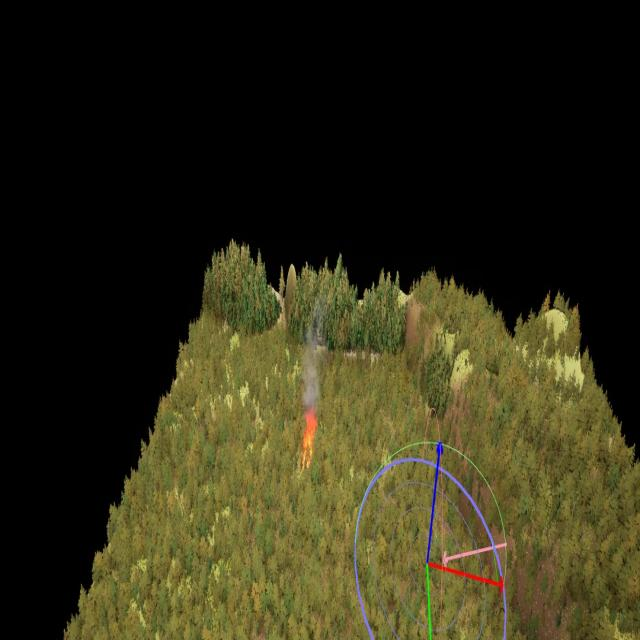fire: (301, 414, 316, 476)
smoke: (303, 312, 323, 413)
